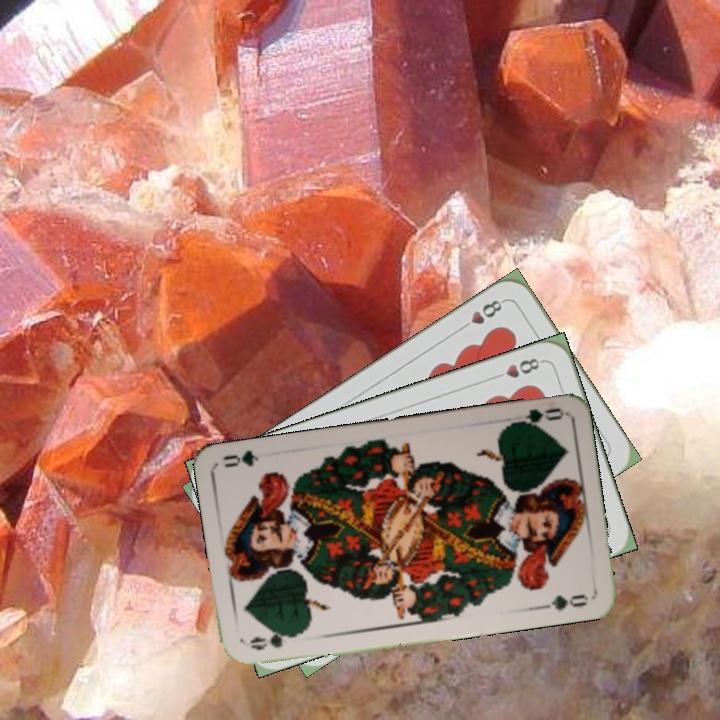GO: (506, 404, 565, 431), (246, 628, 303, 653)
H8: (455, 295, 508, 334), (489, 354, 546, 382)
